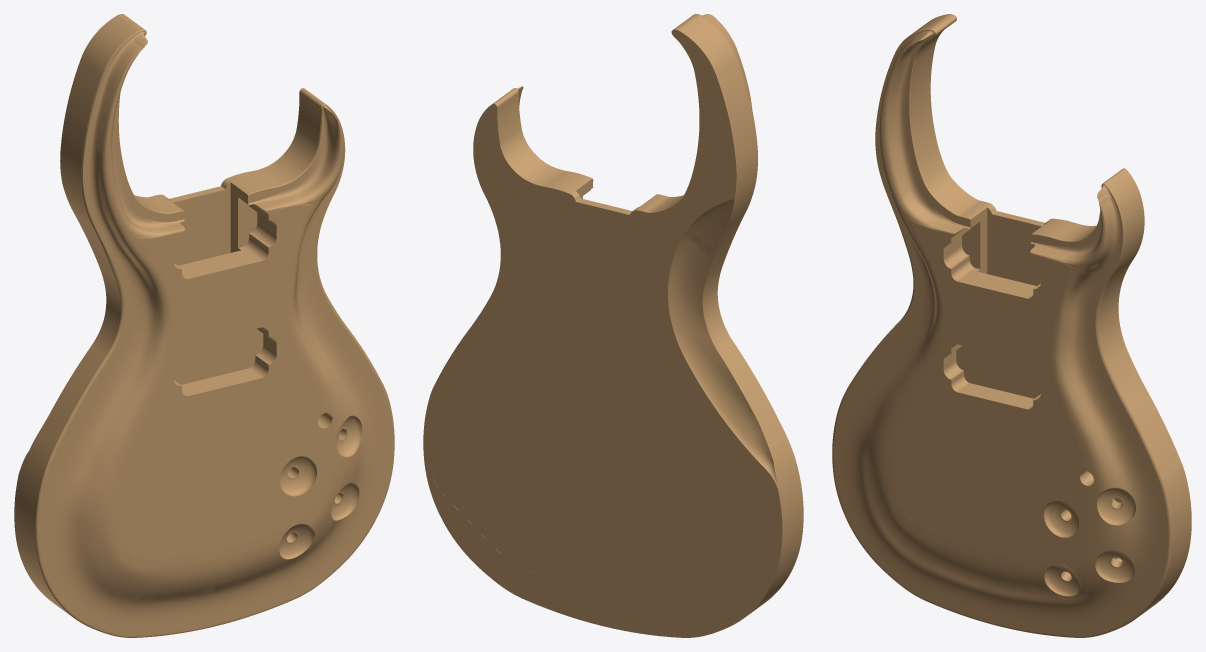
The model's file is matadaur_standard.glb.
3 views of the same model, side by side, from view 1: azimuth 30°, elevation 25°; view 2: azimuth 150°, elevation 25°; view 3: azimuth 330°, elevation 25° (orthographic). The views are drawn at different scales.
Parts seen in each view (by area): view 1: matadaur_standard; view 2: matadaur_standard; view 3: matadaur_standard.
Part boxes in pixels (box(x1,y1,x2,y2)): matadaur_standard: box(14, 14, 394, 637); matadaur_standard: box(423, 14, 803, 637); matadaur_standard: box(832, 14, 1191, 637).
Size of the model in its own units: 0.3111 by 0.5084 by 0.0472.
